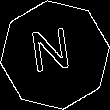N_S: (32, 27, 78, 83)
